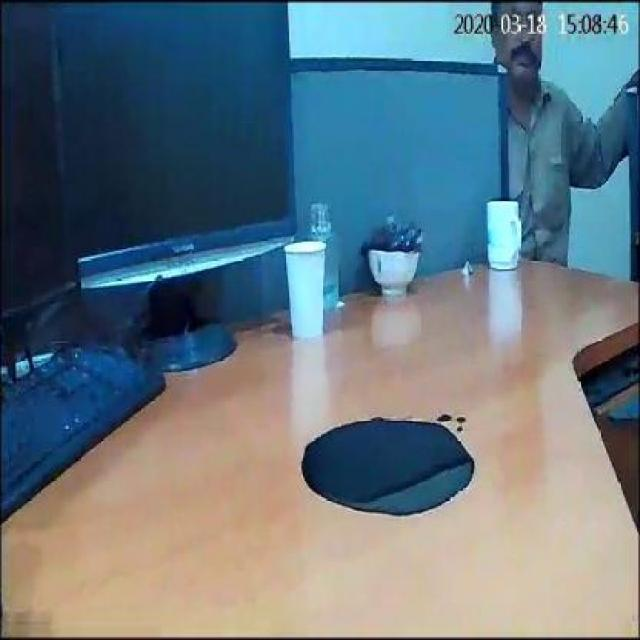spill: (302, 416, 472, 512)
